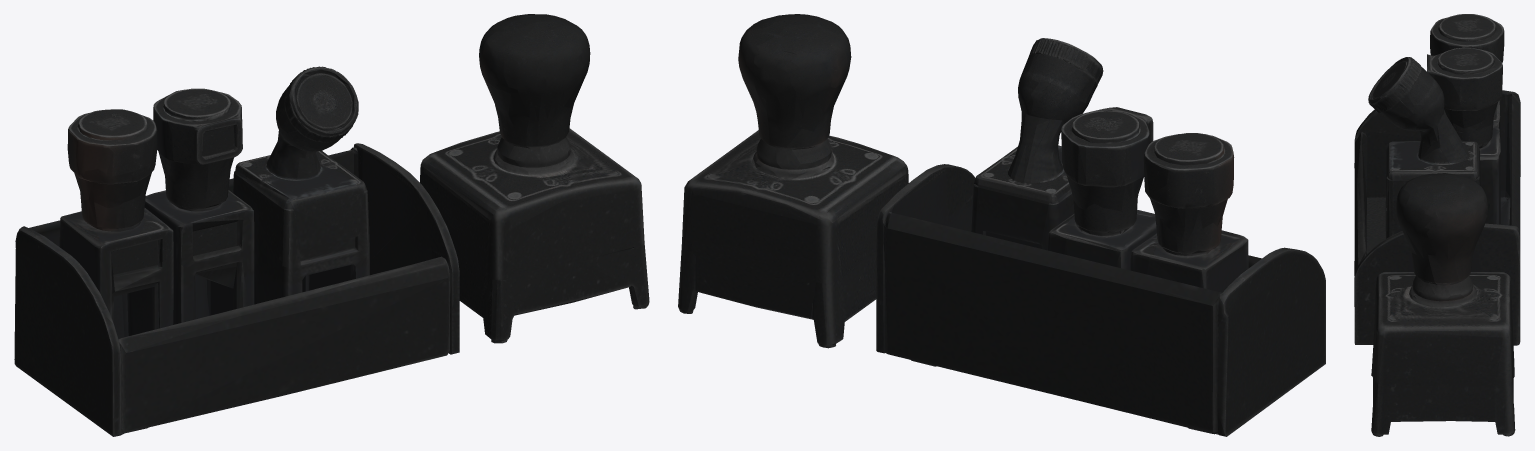
Rendered from timbri_N.glb.
The picture shows the model from 3 angles, left to right: view 1: azimuth 30°, elevation 25°; view 2: azimuth 150°, elevation 25°; view 3: azimuth 270°, elevation 25°; orthographic projection. The views are drawn at different scales.
Bounding box in the file's own units: 1.9 × 0.9886 × 0.5978.
1 material, 1 textured.
